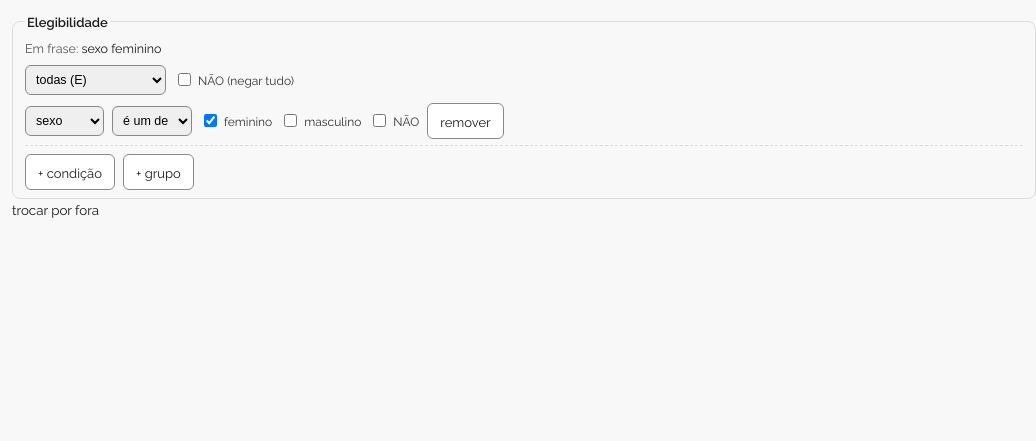
Test case: ConditionBuilder › grupo OU dentro do E
Step 1. Click the button "+ grupo" → (158, 172), box [123,154,194,190]
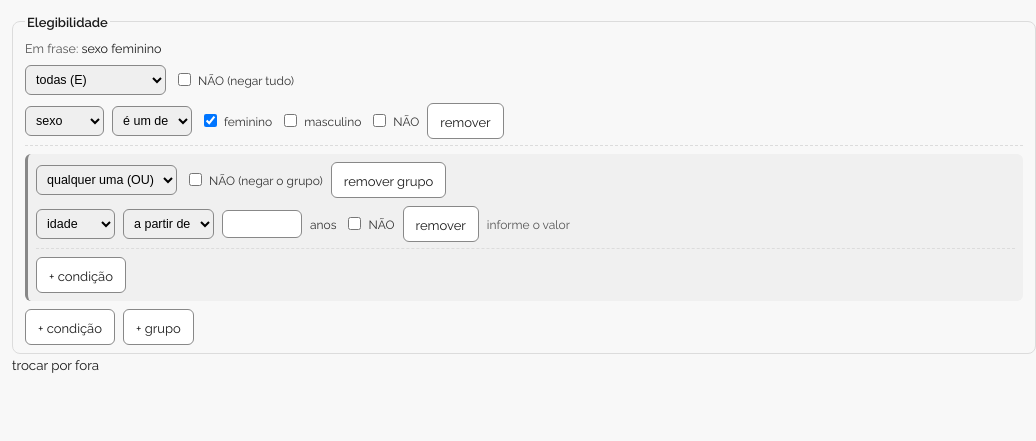
Step 2. Type "60" into the number field named "valor" → (262, 224), box [222,210,302,238]
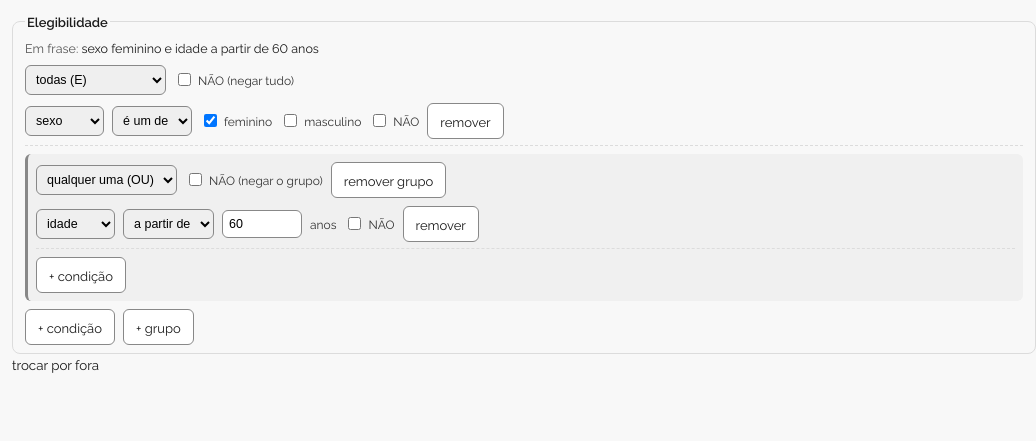
Step 3. Click the button "+ condição" below "NÃO (negar o grupo)" → (81, 275), box [36,257,126,293]
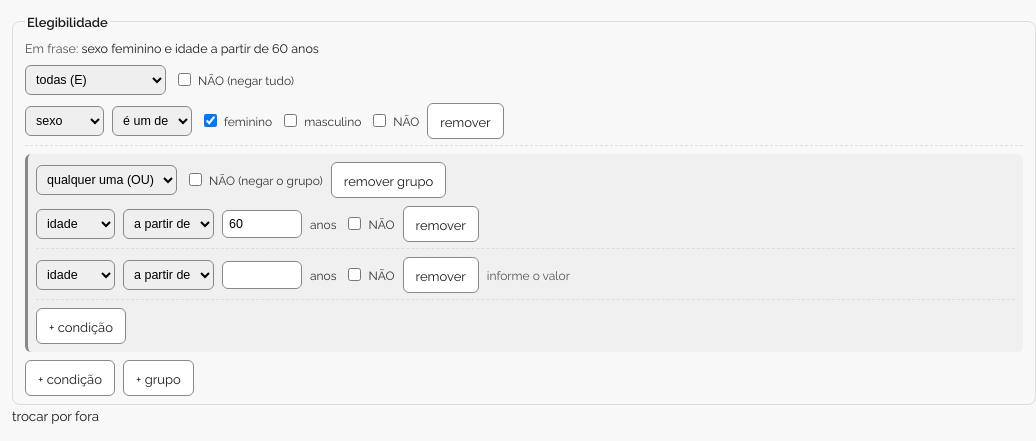
Step 4. Select "até" in the dropdown named "operador" in the row of "informe o valor" → (168, 275), box [123,260,214,290]
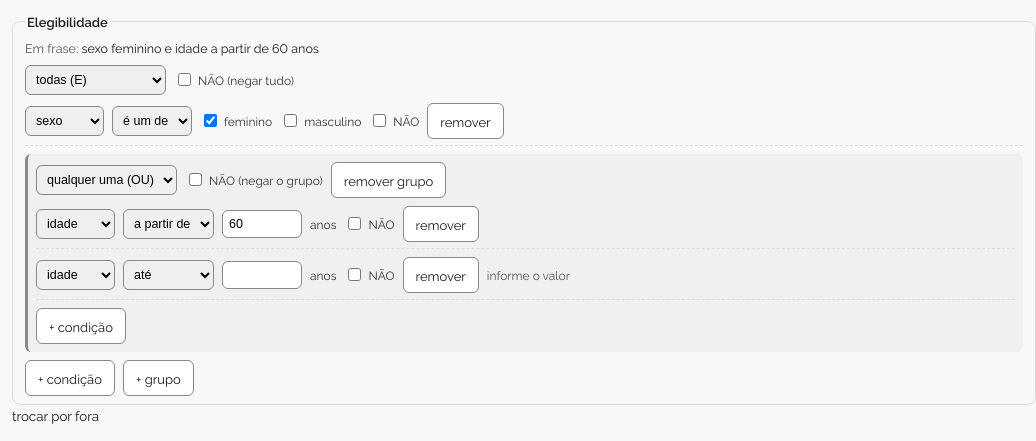
Step 5. Type "2" into the number field named "valor" in the row of "informe o valor" → (262, 275), box [222,261,302,289]
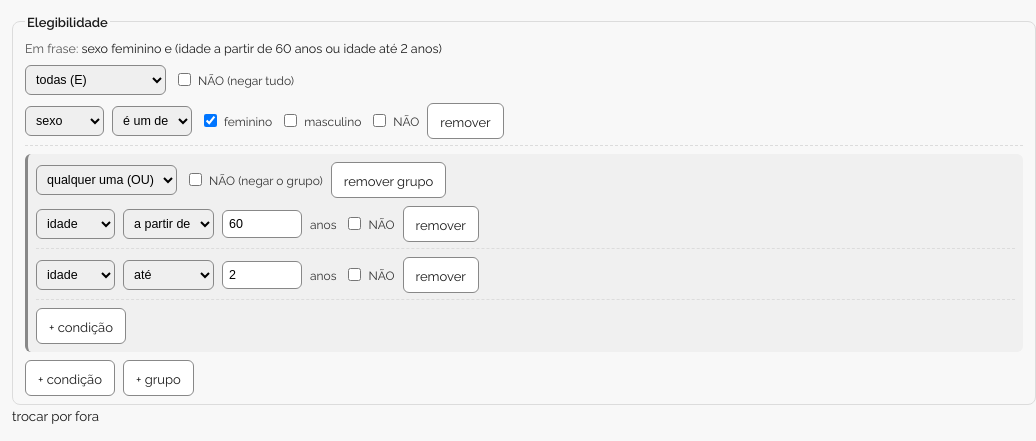
Expected: the text "sexo feminino e (idade a partir de 60 anos ou idade até 2 anos)" is shown, [81,39,442,56]
